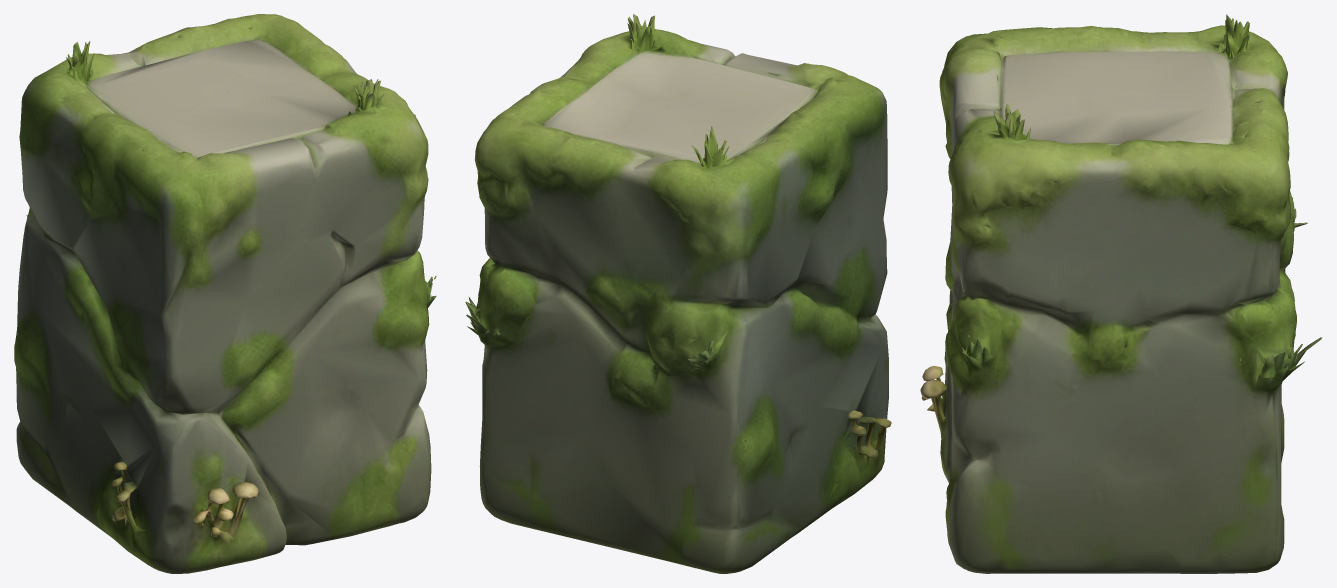
Rendered from pillar3.glb.
The picture shows the model from 3 angles, left to right: view 1: azimuth 30°, elevation 25°; view 2: azimuth 150°, elevation 25°; view 3: azimuth 270°, elevation 25°; orthographic projection. The views are drawn at different scales.
Visible parts, largest first — view 1: world; view 2: world; view 3: world.
Part boxes in pixels (left/top/right/bottom): world: left=14, top=14, right=436, bottom=573; world: left=465, top=14, right=891, bottom=573; world: left=920, top=14, right=1322, bottom=573.
Bounding box in the file's own units: 0.7094 × 0.9677 × 0.7727.
1 material, 1 textured.
